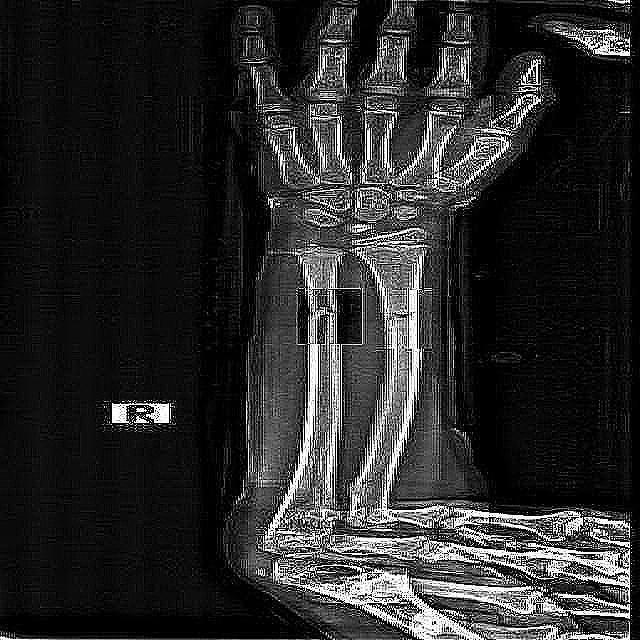bone: (300, 289, 346, 344), (387, 290, 426, 349)
